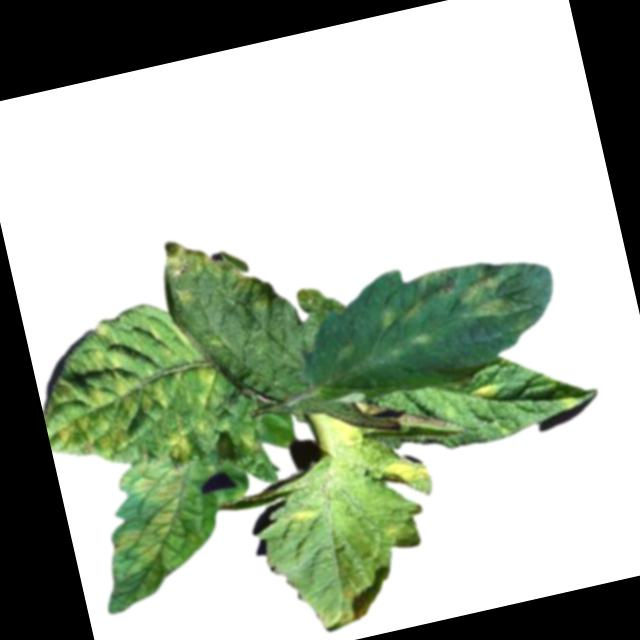Leaf_Mold: (25, 292, 229, 465), (77, 452, 221, 616), (156, 220, 278, 322), (414, 249, 534, 333), (309, 585, 370, 633), (374, 453, 433, 498), (372, 297, 423, 333), (160, 426, 197, 467), (466, 381, 503, 407), (290, 506, 322, 529)
